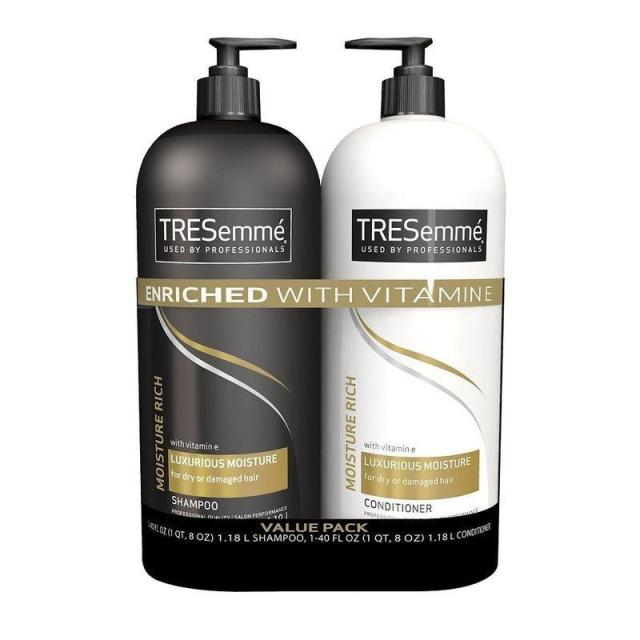food-supliment: (142, 144, 316, 563), (328, 128, 498, 555)
